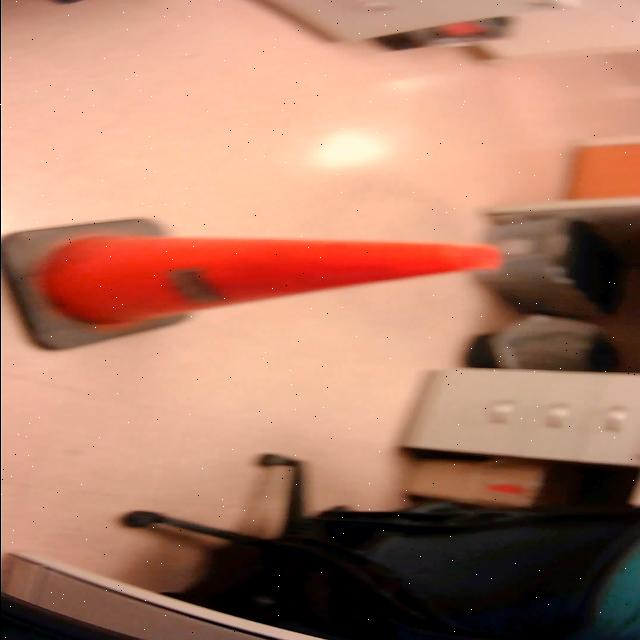traffic cone: (1, 216, 514, 355)
